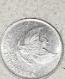coin_100_e1999: (0, 16, 64, 79)
